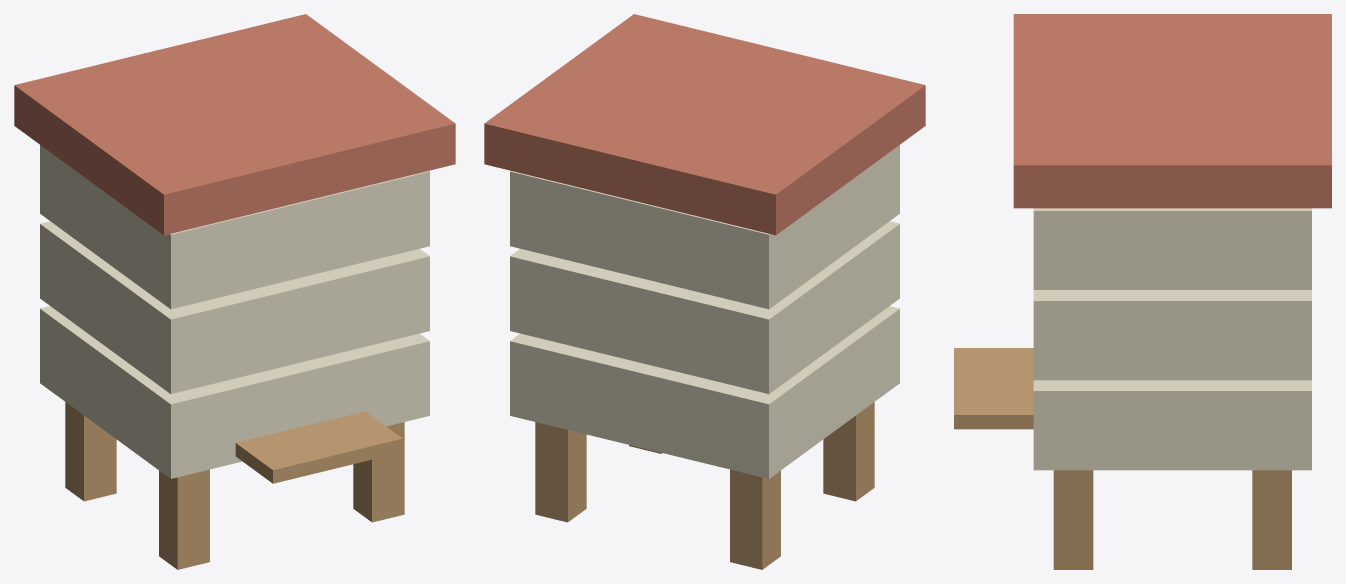
The model's file is cozy-farm-and-homestead-beehive-box-ef57b1f0__19416.glb.
3 renders of one model, left to right at view 1: azimuth 30°, elevation 25°; view 2: azimuth 150°, elevation 25°; view 3: azimuth 270°, elevation 25°, orthographic. The views are drawn at different scales.
Parts seen in each view (by area): view 1: beehive-box; view 2: beehive-box; view 3: beehive-box.
Part boxes in pixels (x1,y1,x2,y2): beehive-box: [14, 14, 455, 569]; beehive-box: [484, 14, 925, 569]; beehive-box: [954, 14, 1331, 569].
Bounding box in the file's own units: 0.9 × 1.17 × 0.95.
